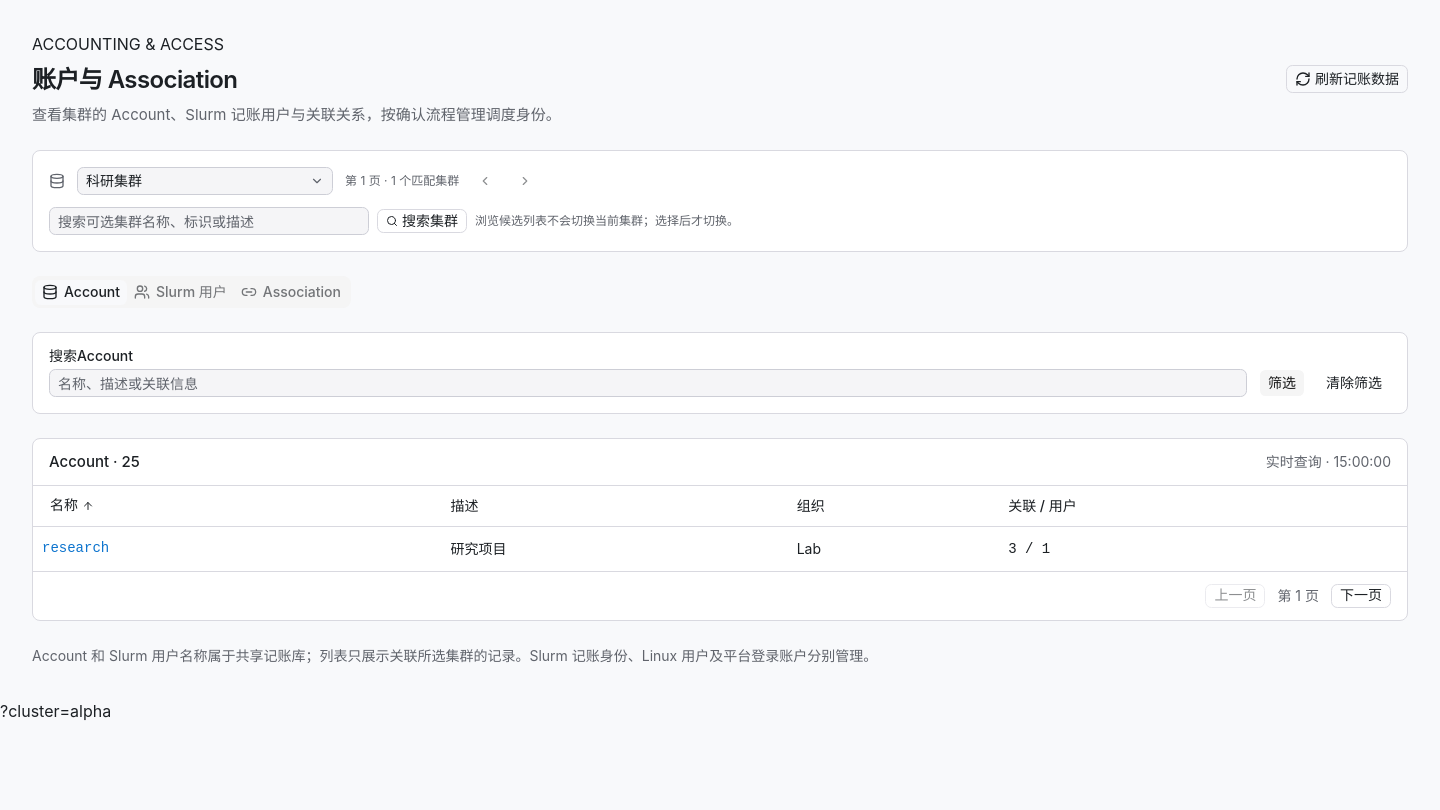
账户详情可跳转当前账户关联，关联详情给出精确身份
Step 1. Click the button "research" → (76, 548), box top-left (41, 534), bottom-right (110, 562)
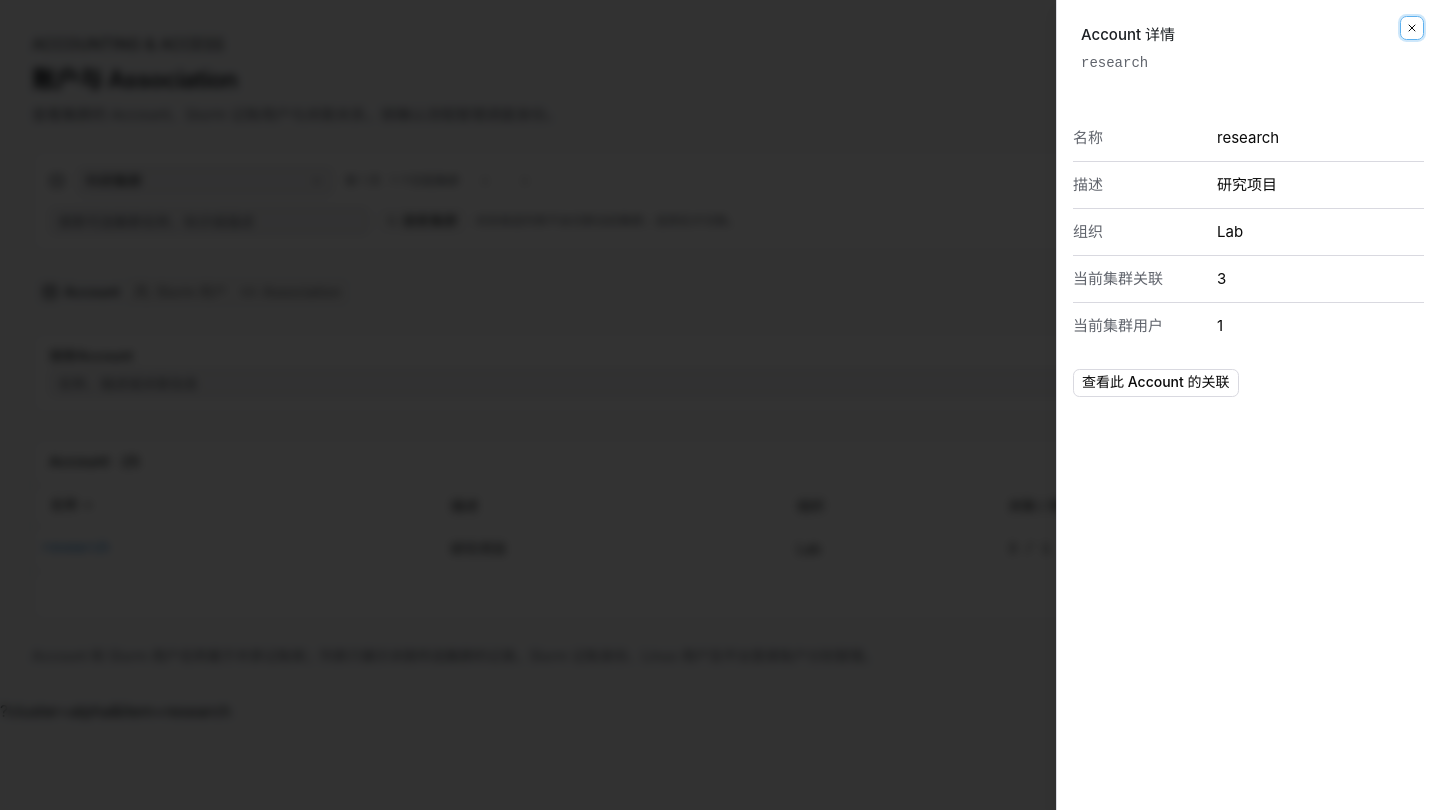
Step 2. Click the button "查看此 Account 的关联" → (1156, 383), box top-left (1073, 369), bottom-right (1238, 397)
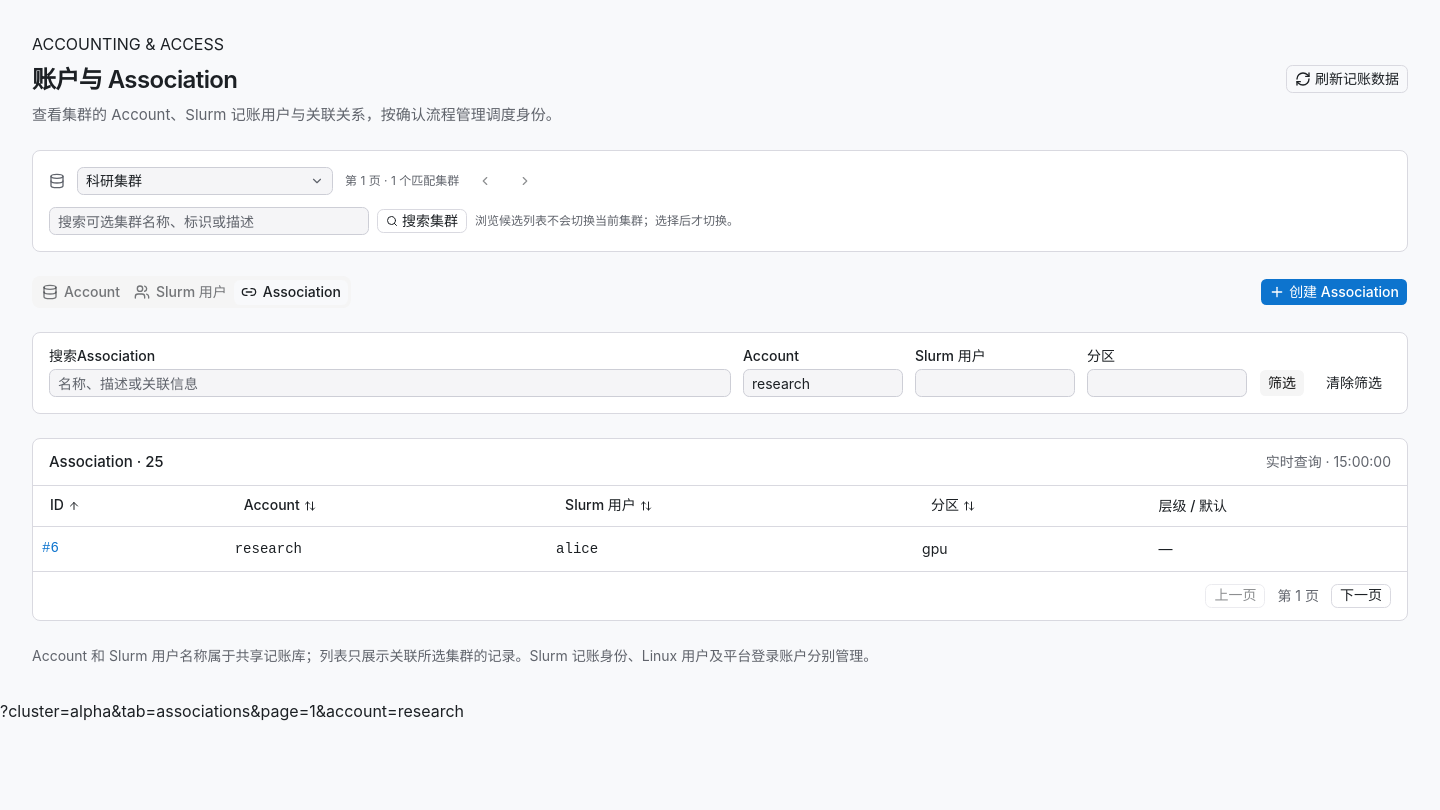
expect the button "#6" is shown: met
expect the text named "当前查询" shows "account=research": met, box top-left (0, 701), bottom-right (464, 721)
Step 3. Click the button "#6" → (50, 548), box top-left (41, 534), bottom-right (60, 562)
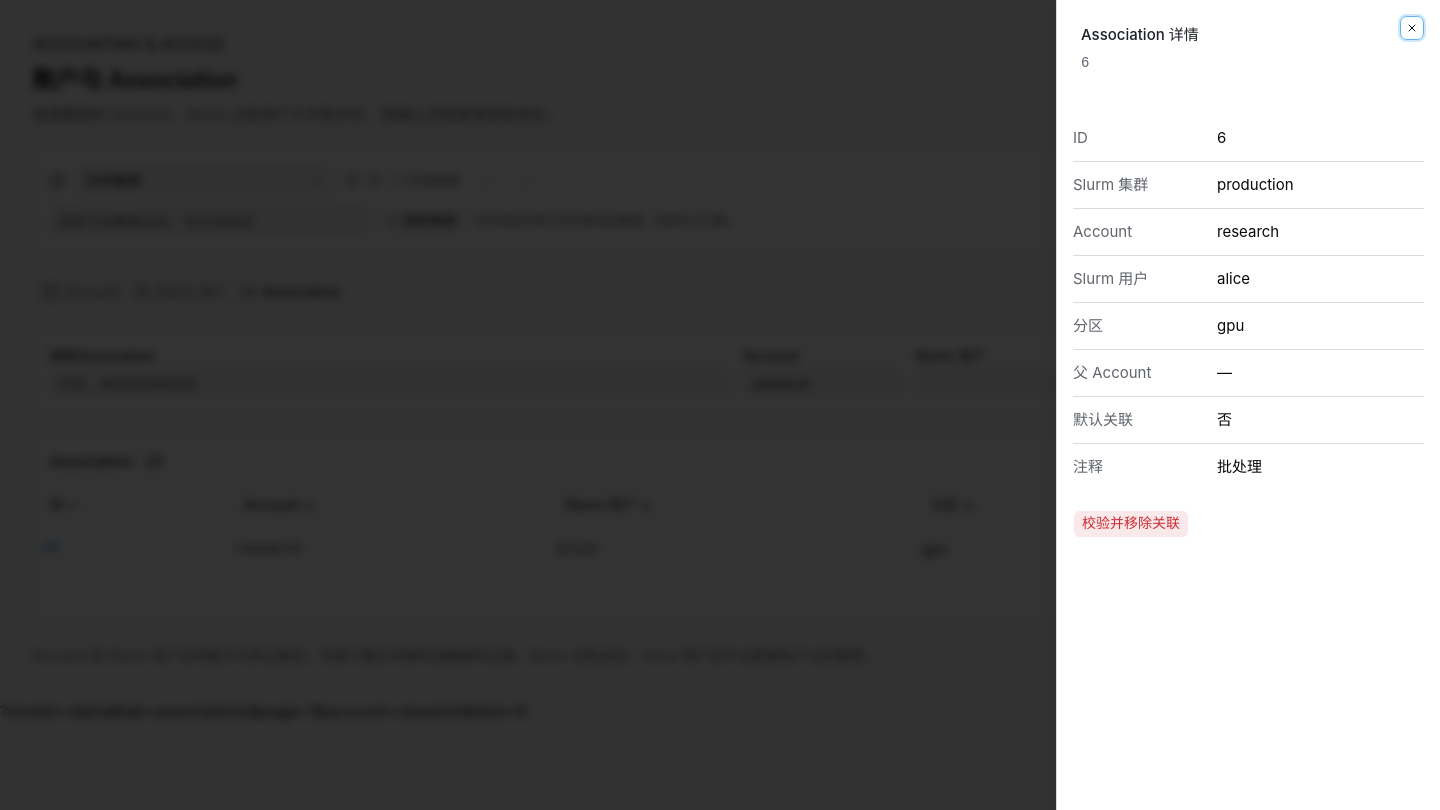
expect the text "批处理" is shown: met, box top-left (1217, 457), bottom-right (1262, 476)
expect the button "校验并移除关联" is enabled: met, box top-left (1073, 510), bottom-right (1189, 538)
